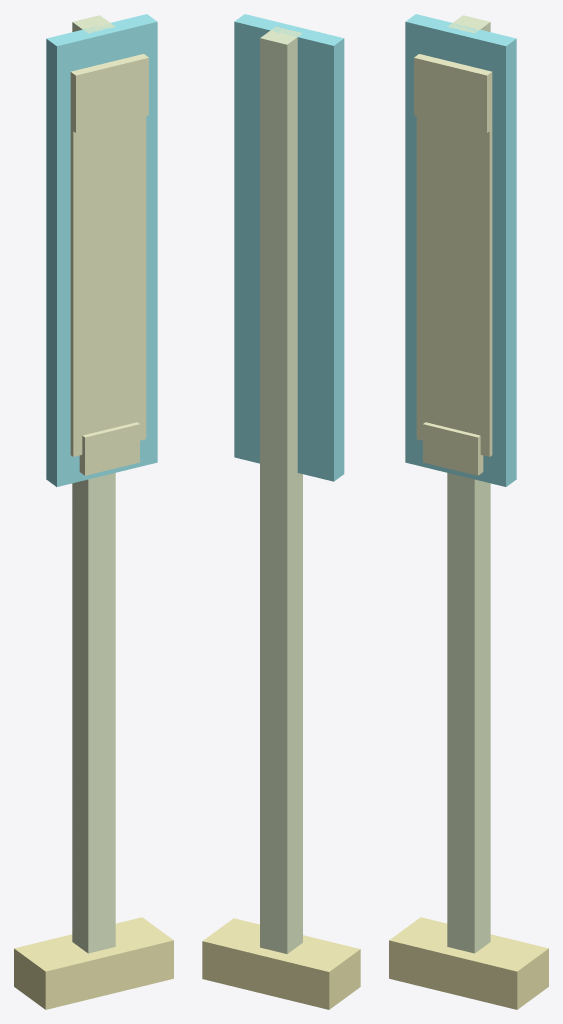
File: furniture_bus_stop_timetable_blade.glb
The picture shows the model from 3 angles, left to right: view 1: azimuth 30°, elevation 25°; view 2: azimuth 150°, elevation 25°; view 3: azimuth 330°, elevation 25°; orthographic projection.
Parts seen in each view (by area): view 1: face, post, blade, base, header, footer; view 2: post, blade, base; view 3: face, post, blade, base, header, footer.
Boxes of the visible parts, <box> form: face: <box>70,110,146,456</box>; post: <box>72,15,115,953</box>; blade: <box>46,14,157,486</box>; base: <box>14,917,173,1009</box>; header: <box>70,54,148,132</box>; footer: <box>79,422,139,475</box>; post: <box>260,27,302,953</box>; blade: <box>234,14,344,481</box>; base: <box>202,918,360,1009</box>; face: <box>416,110,492,456</box>; post: <box>447,15,490,953</box>; blade: <box>405,14,516,486</box>; base: <box>389,917,548,1009</box>; header: <box>414,54,492,132</box>; footer: <box>423,422,483,475</box>.
Bounding box in the file's own units: 0.28 × 2 × 0.13.
